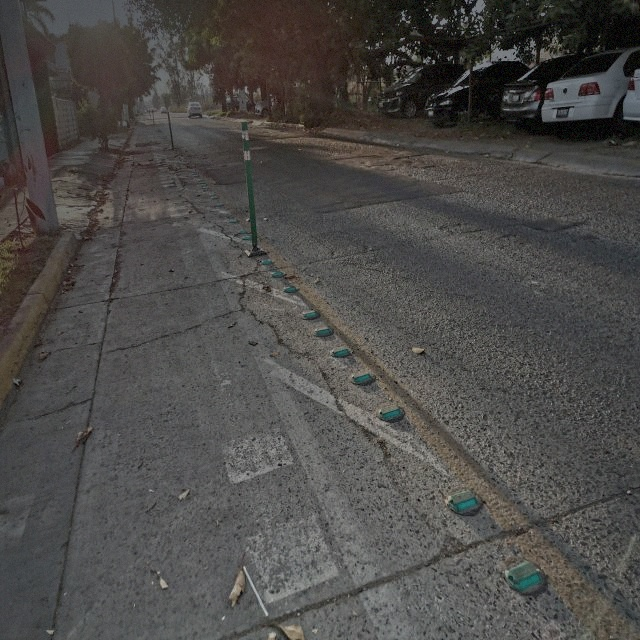pothole: (140, 163, 160, 170)
